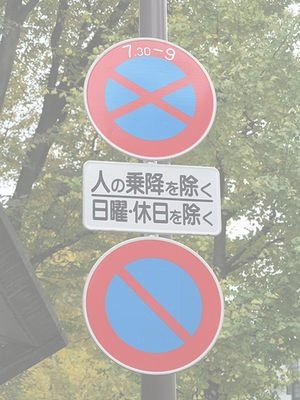Prohibition_sign: (79, 229, 233, 387), (84, 38, 221, 155)
